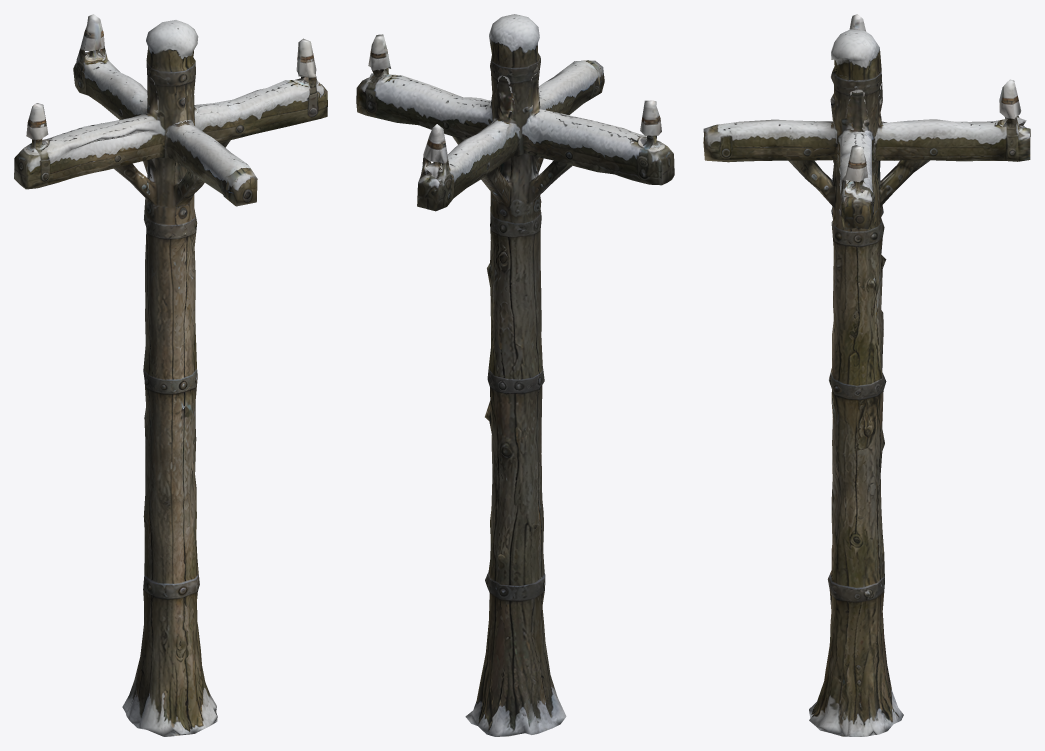
Rendered from PR_TelegraphPole.fbx.
3 renders of one model, left to right at view 1: azimuth 30°, elevation 25°; view 2: azimuth 150°, elevation 25°; view 3: azimuth 270°, elevation 25°, orthographic. The views are drawn at different scales.
Visible parts, largest first — view 1: texture_mapping; view 2: texture_mapping; view 3: texture_mapping.
Part boxes in pixels (left/top/right/bottom): texture_mapping: left=14, top=14, right=327, bottom=736; texture_mapping: left=356, top=14, right=674, bottom=736; texture_mapping: left=703, top=14, right=1030, bottom=736.
Size of the model in its own units: 0.4575 by 0.4319 by 1.
Materials: 1 (1 with a texture image).
